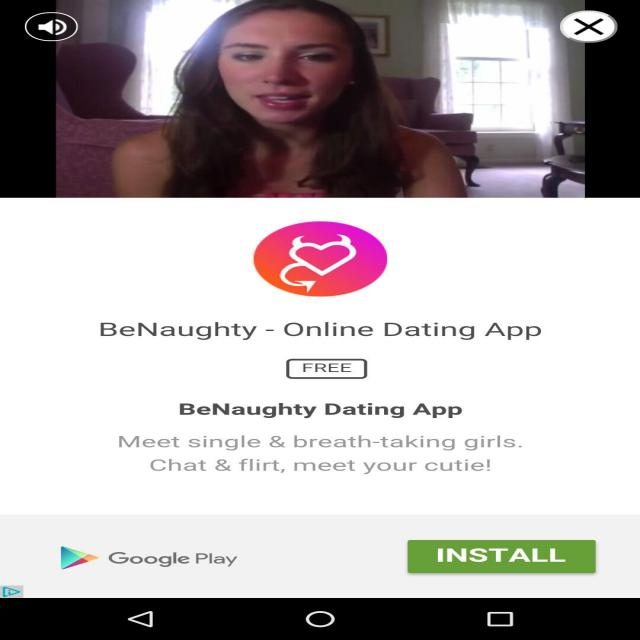icon: (220, 221, 415, 303)
image: (21, 5, 640, 199)
text: (61, 310, 567, 482)
